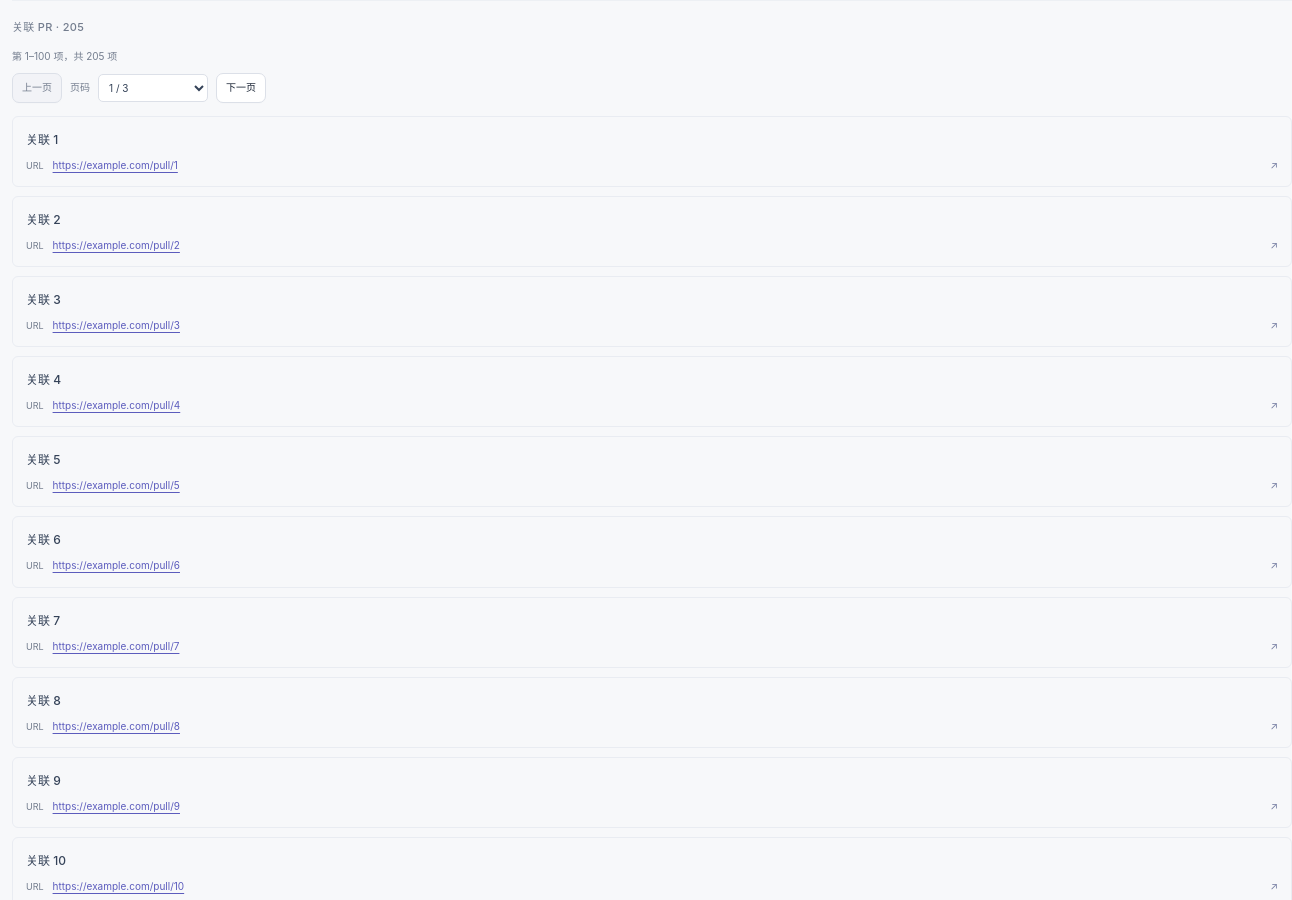
Test: local PR pagination › reaches every ordered record, including late duplicates and raw strings, with at most 100 mounted rows
Expected: the button "上一页" is disabled, [12, 73, 62, 102]
Expected: the message reads "第 1–100 项，共 205 项", [12, 50, 117, 62]
Step 1. Click the button "下一页" → (241,88), box [216, 73, 266, 102]
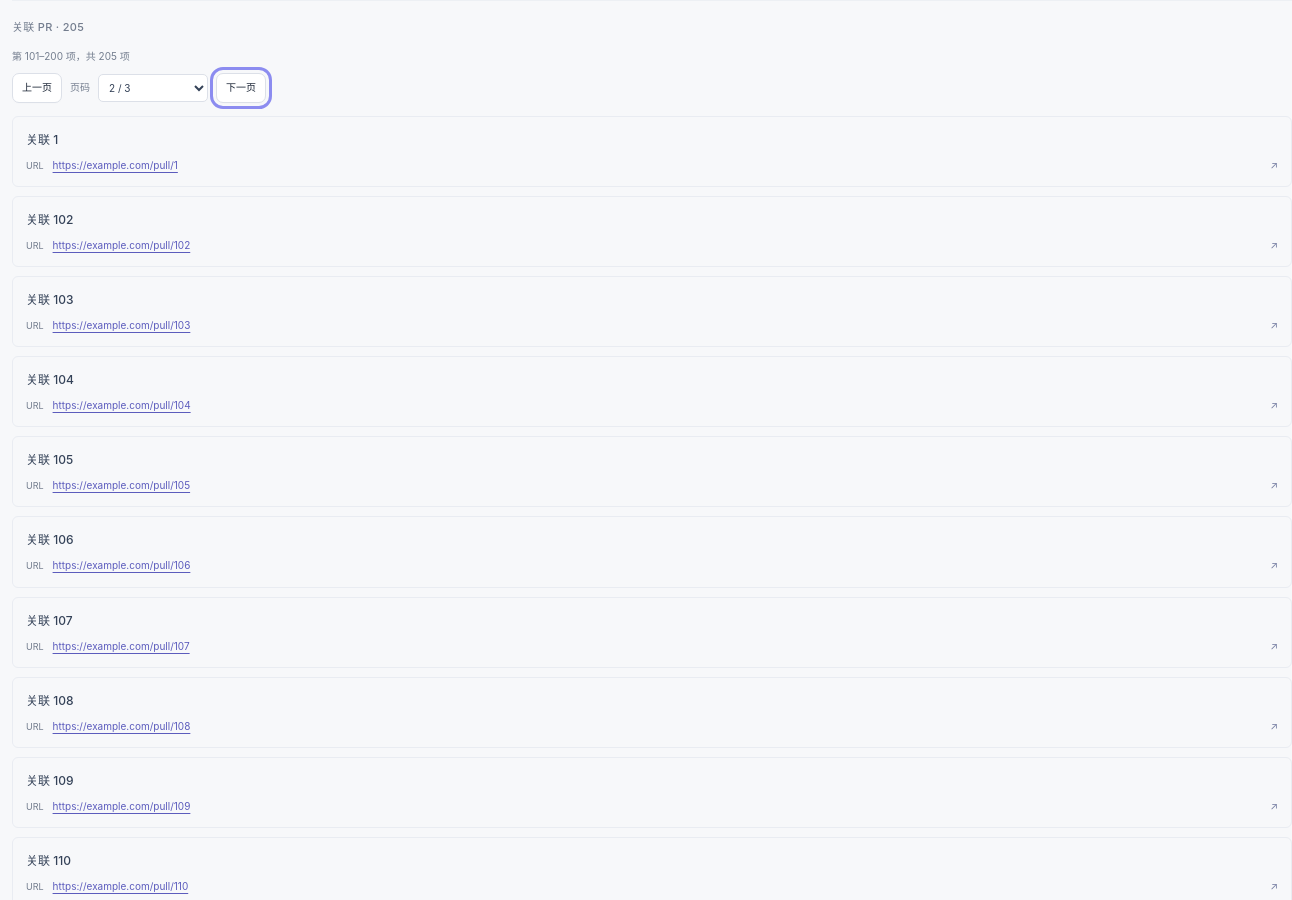
Expected: the message reads "第 101–200 项，共 205 项", [12, 50, 130, 62]
Step 2. Click the button "下一页" → (241,88), box [216, 73, 266, 102]
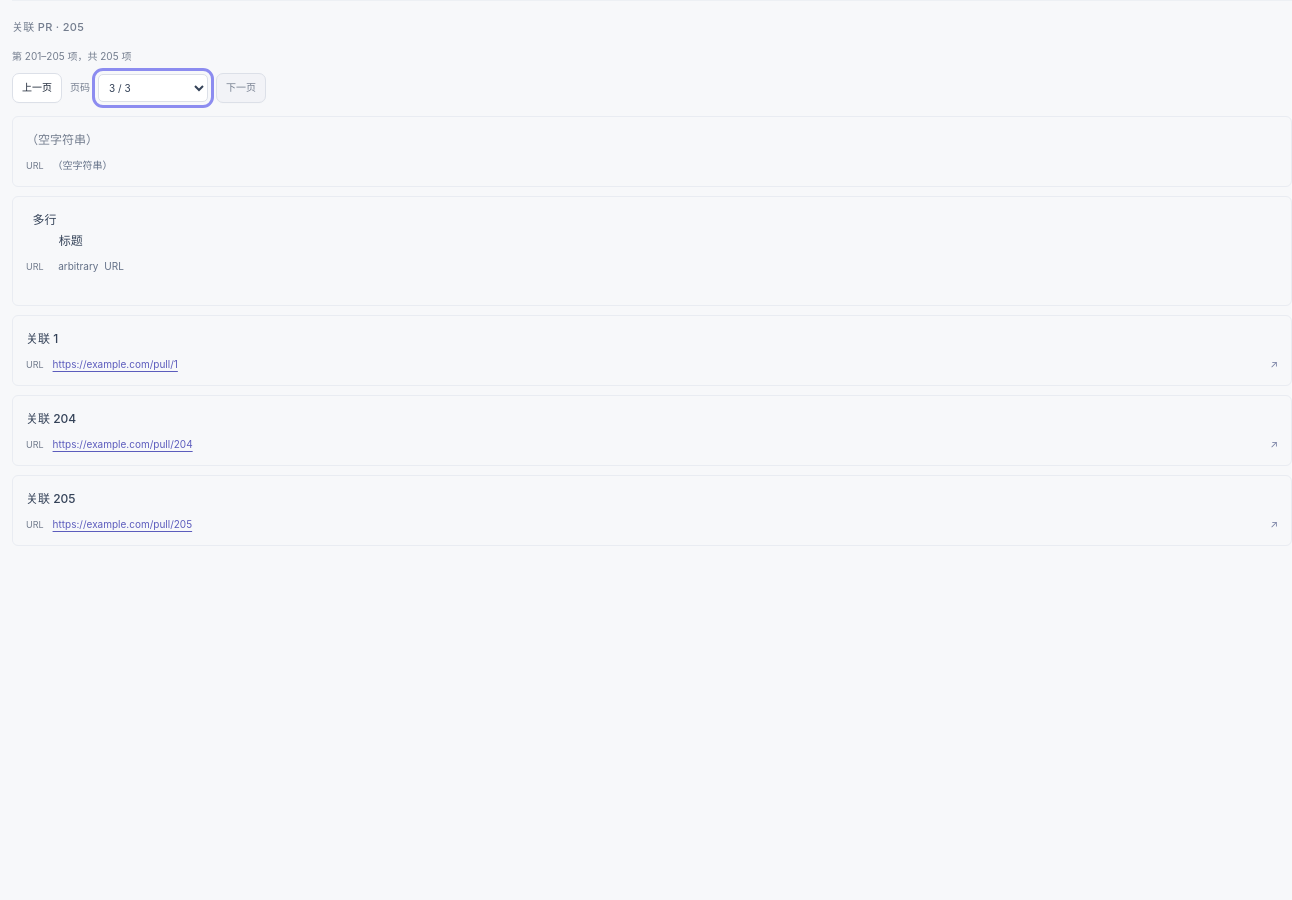
Expected: the button "下一页" is disabled, [216, 73, 266, 102]
Expected: the message reads "第 201–205 项，共 205 项", [12, 50, 131, 62]
Expected: the number of list items is 5, [12, 116, 1291, 187]; [12, 196, 1291, 306]; [12, 315, 1291, 386]; [12, 395, 1291, 466]; [12, 475, 1291, 546]
Step 3. Click the button "上一页" → (37,88), box [12, 73, 62, 102]
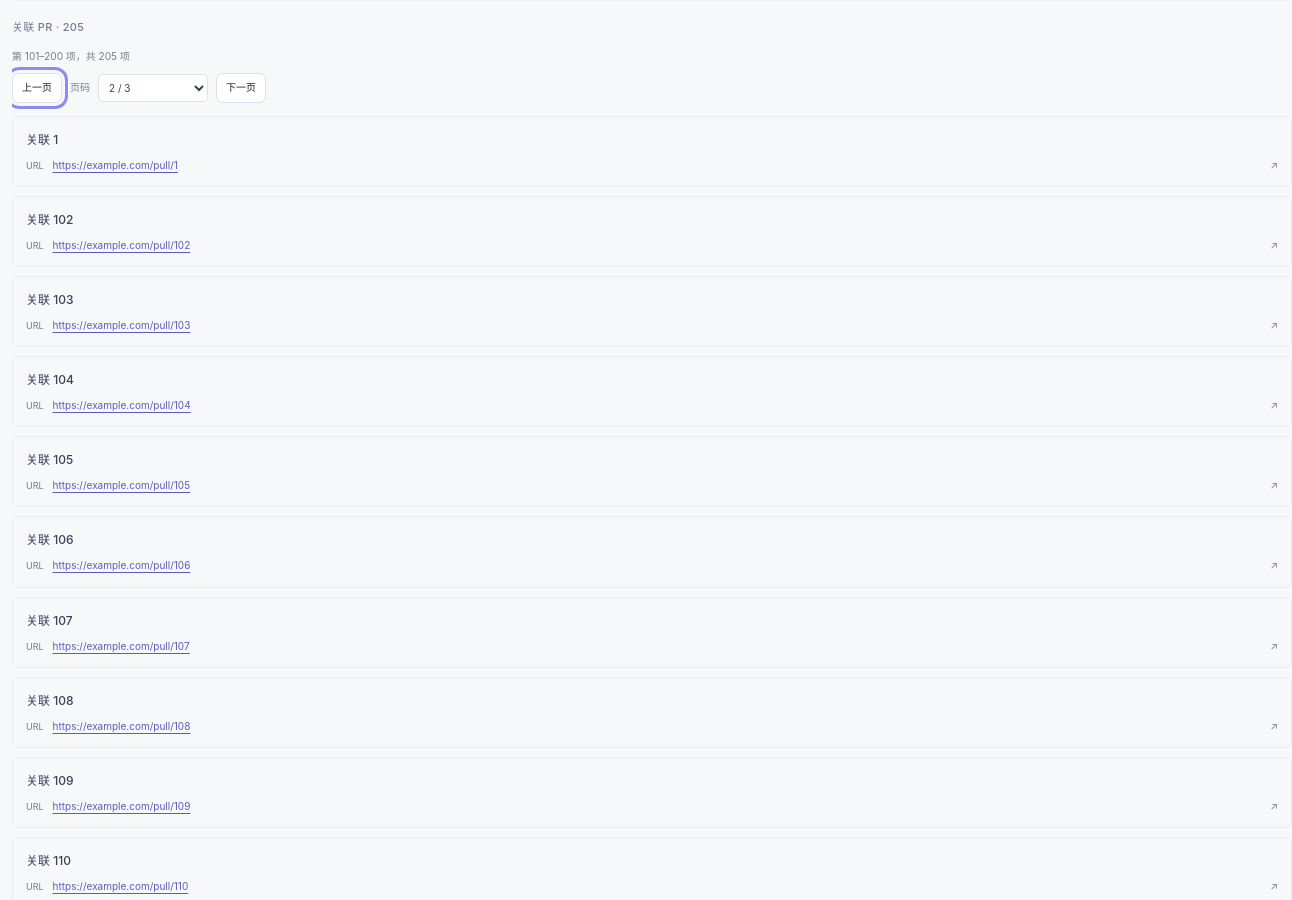
Step 4. Click the button "上一页" → (37,88), box [12, 73, 62, 102]
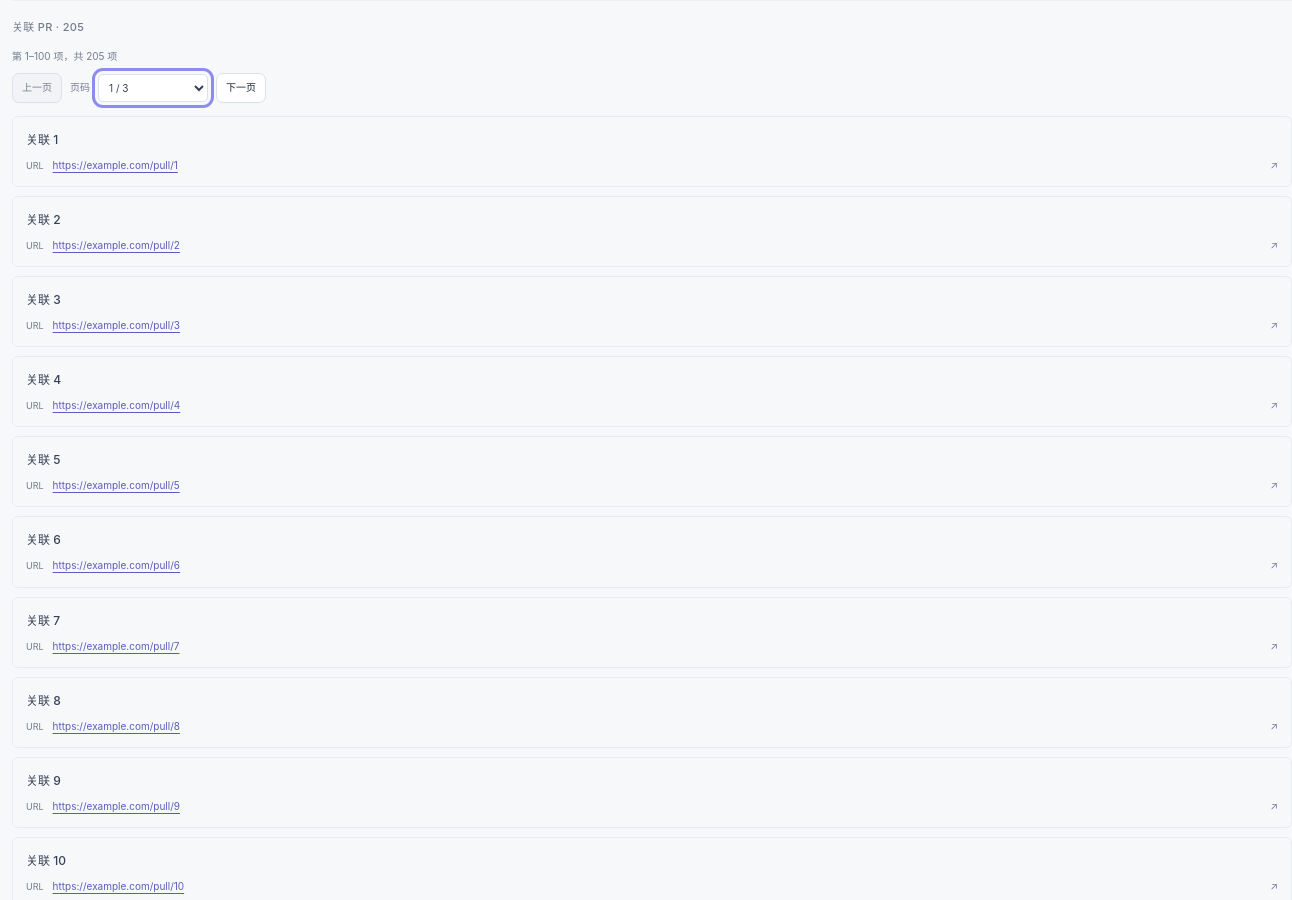
Expected: the button "上一页" is disabled, [12, 73, 62, 102]
Step 5. Select "3 / 3" in the dropdown named "关联 PR 页码" → (153,88), box [98, 74, 208, 102]
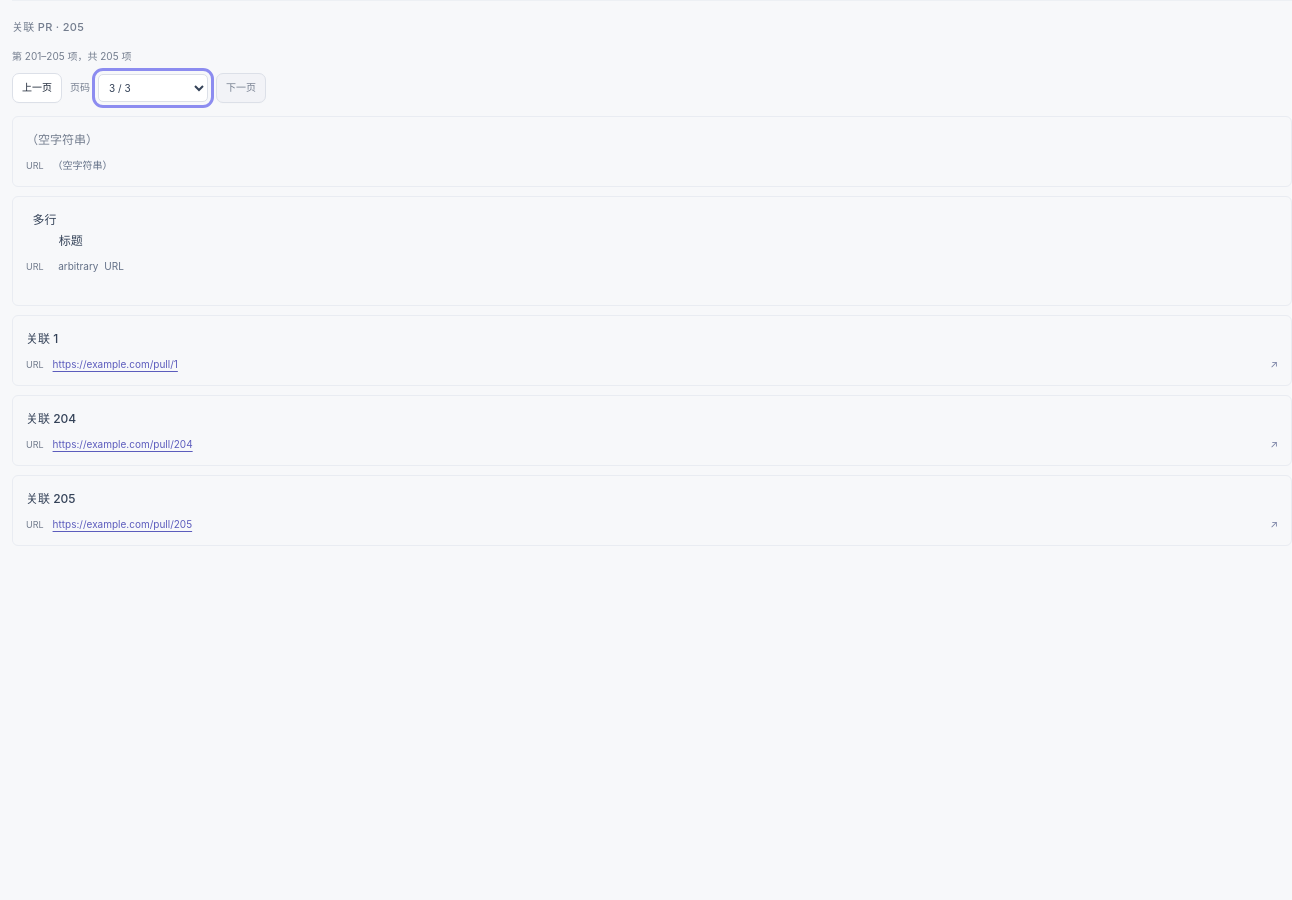
Expected: the number of list items is 5, [12, 116, 1291, 187]; [12, 196, 1291, 306]; [12, 315, 1291, 386]; [12, 395, 1291, 466]; [12, 475, 1291, 546]
